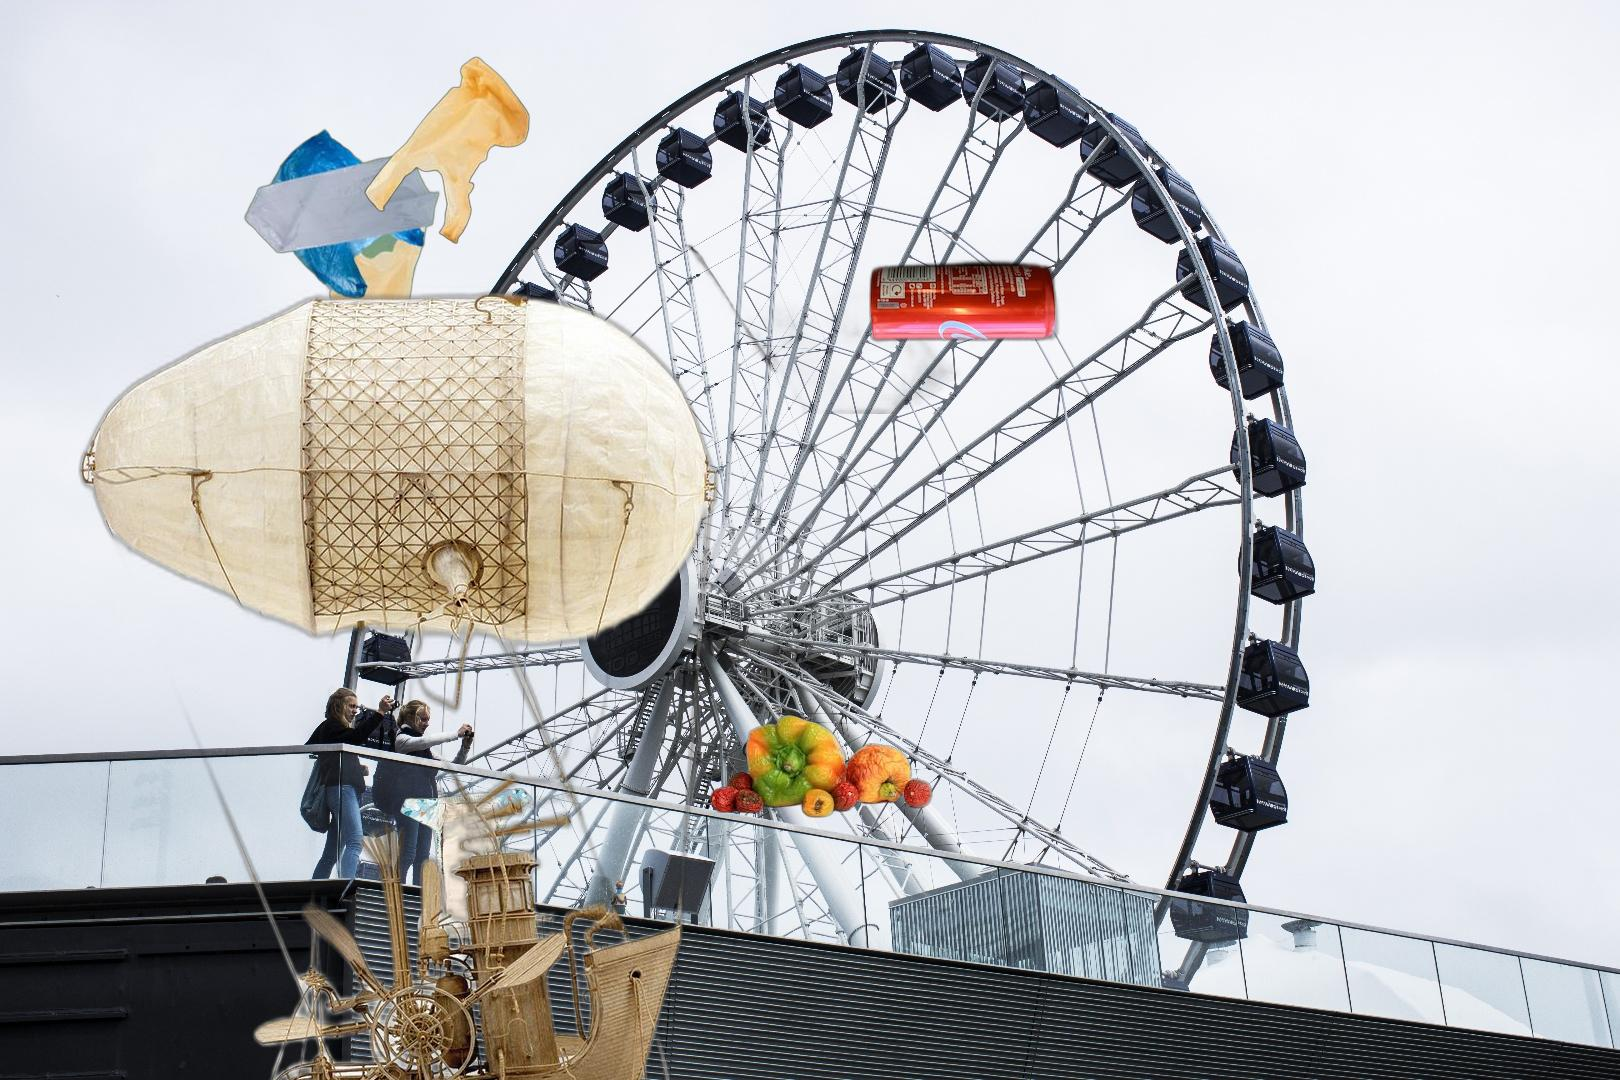biological: (708, 712, 935, 820)
metal-cans: (865, 257, 1062, 347)
paper-bag: (567, 469, 679, 582)
plastic-bag: (242, 124, 441, 389), (362, 54, 530, 247)
trash: (397, 786, 538, 943)
trashbox-cardboard: (74, 281, 724, 1080), (655, 174, 975, 413)
